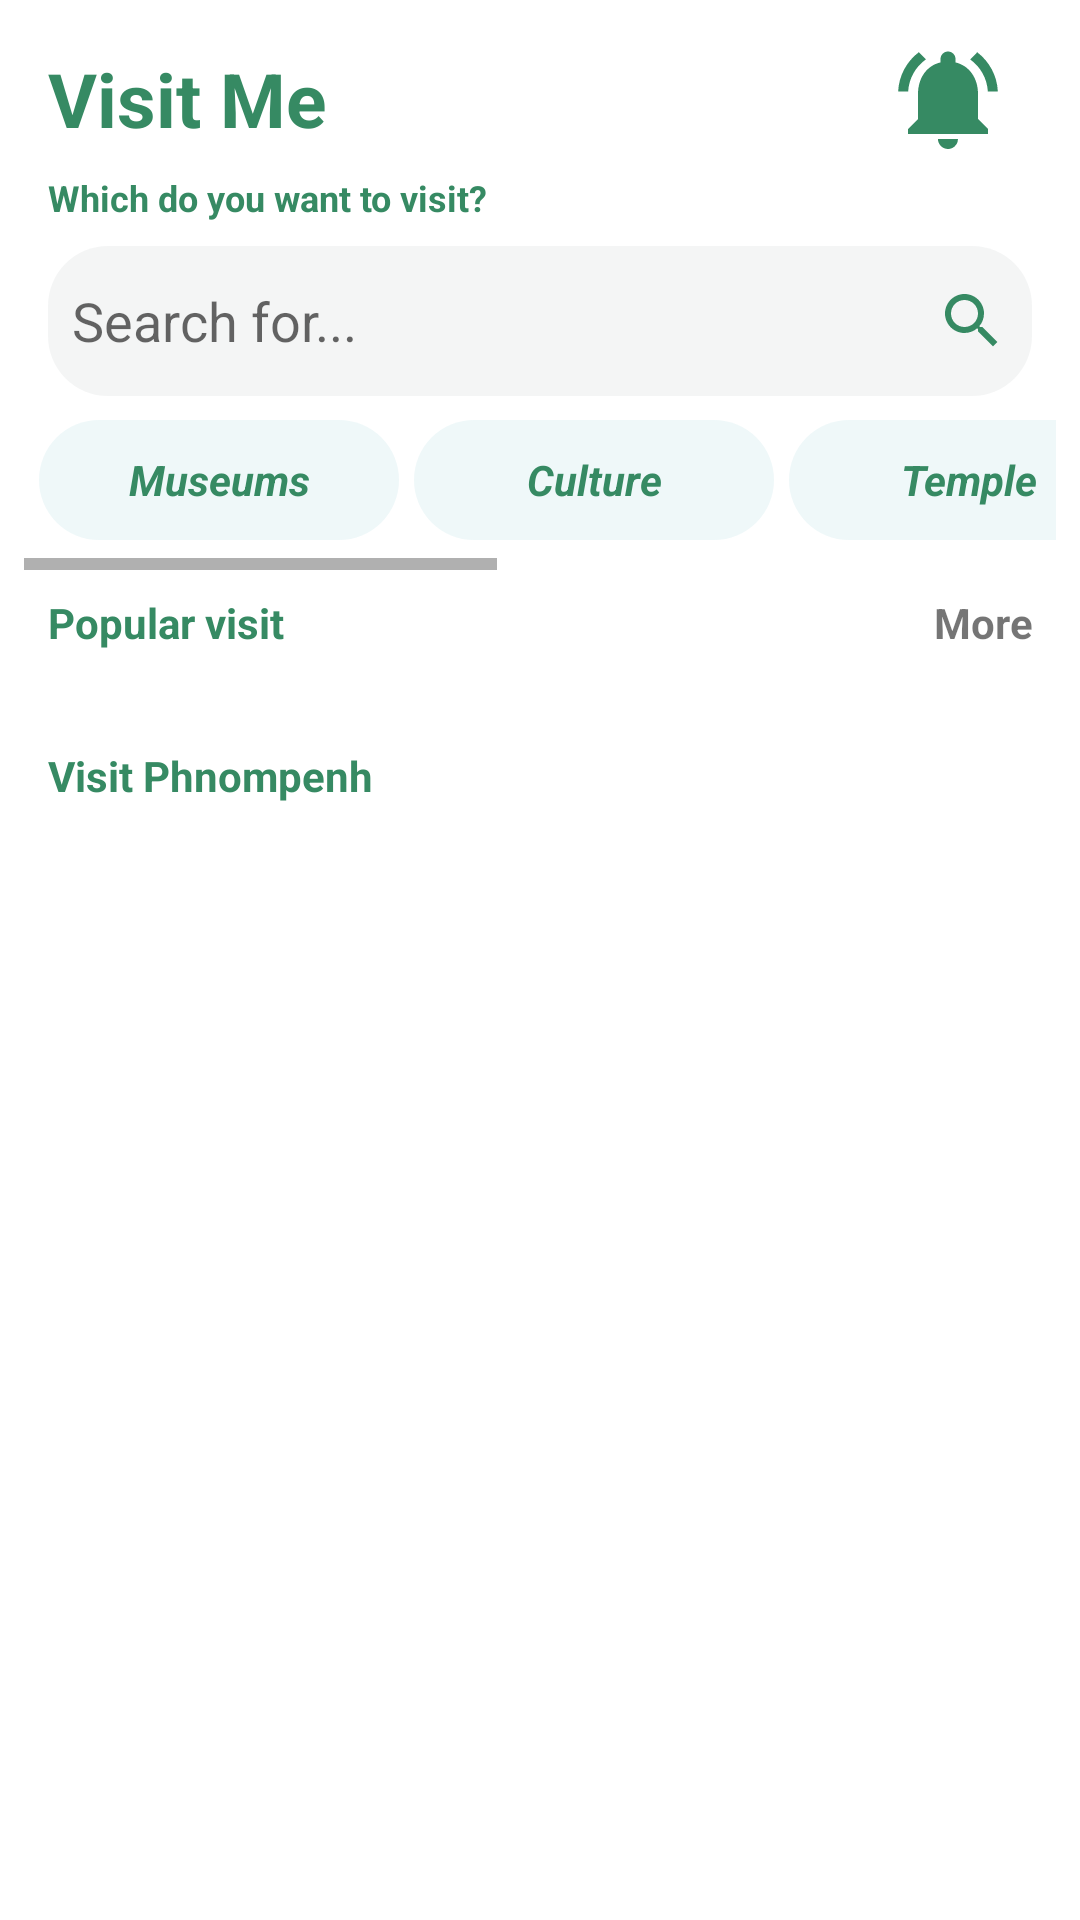

Icons on this 1080px×1920px Android screen, each with the point to tap as point (x, y):
notifications: point (948, 100)
